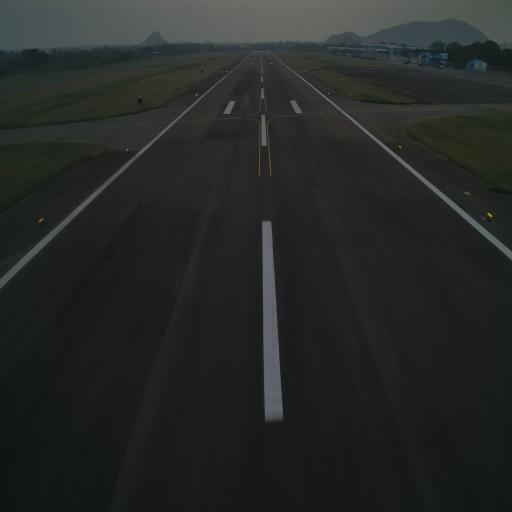on: (37, 214, 47, 227), (486, 208, 494, 221), (125, 146, 130, 154), (398, 144, 402, 151), (327, 91, 330, 96), (195, 93, 198, 97), (306, 77, 308, 80), (216, 77, 218, 80)
